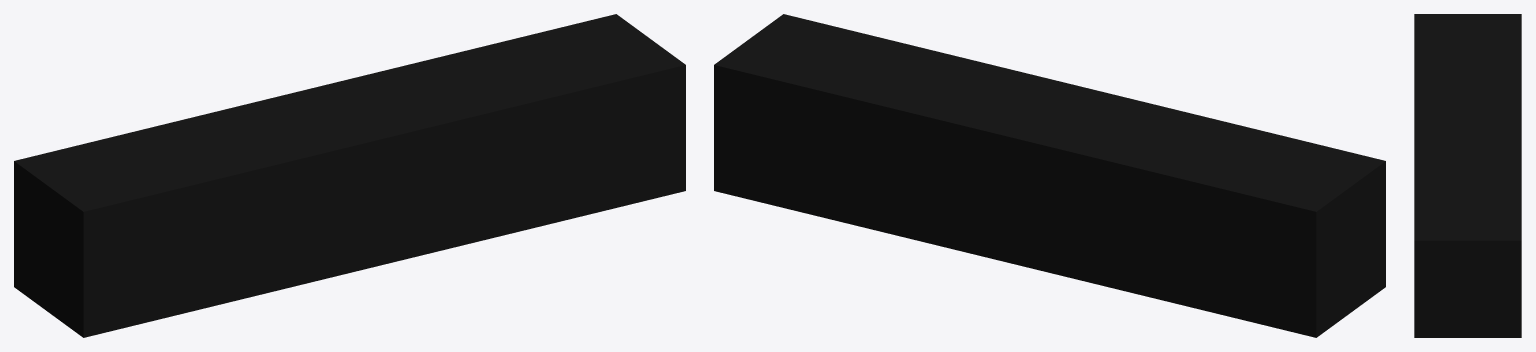
File: Machingun.obj
3 views of the same model, side by side, from view 1: azimuth 30°, elevation 25°; view 2: azimuth 150°, elevation 25°; view 3: azimuth 270°, elevation 25° (orthographic). The views are drawn at different scales.
Bounding box in the file's own units: 5 × 1 × 1.
1 material, 1 textured.
